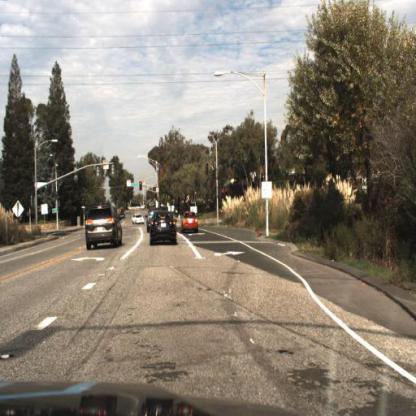car: (83, 200, 124, 249), (150, 208, 179, 247), (181, 210, 198, 233), (144, 205, 157, 234), (133, 213, 144, 226)
trafficLight-Red: (137, 176, 145, 194), (122, 179, 129, 197)
